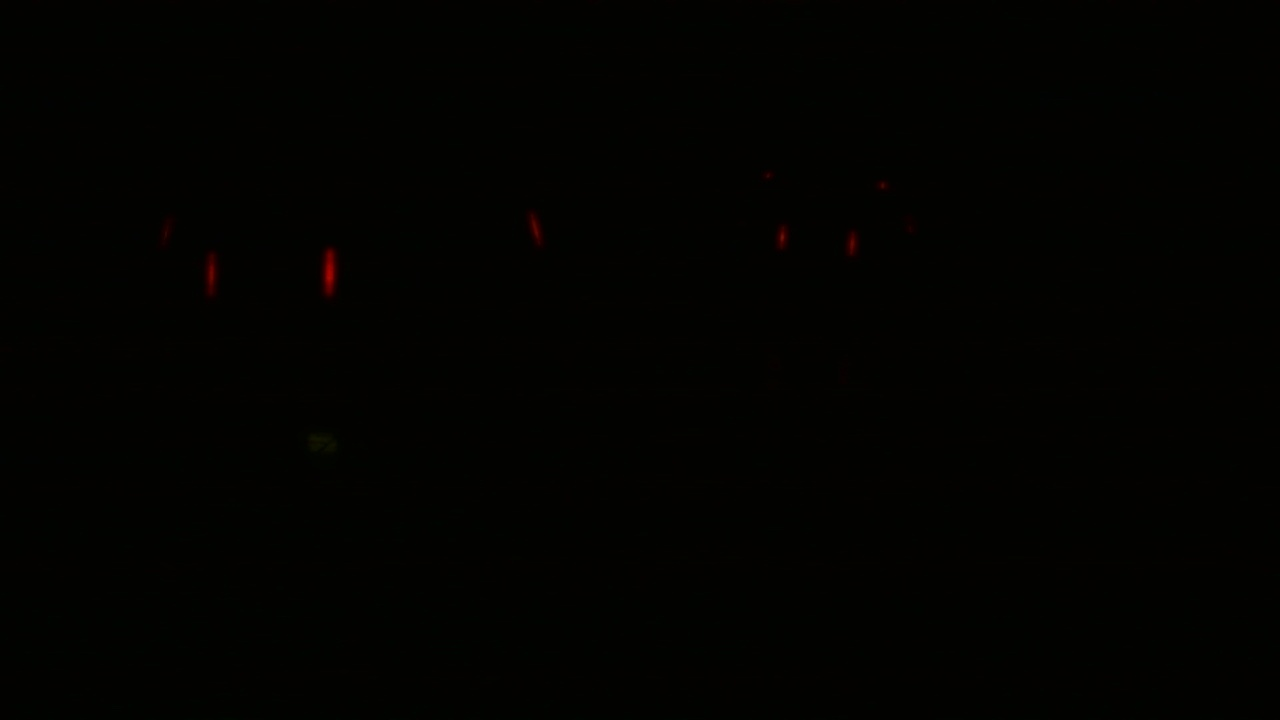pair1: (201, 245, 341, 296), (772, 225, 865, 261)
